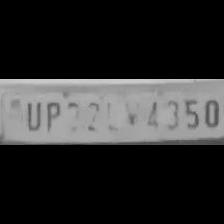0: (200, 96, 222, 128)
2: (82, 97, 102, 133)
3: (162, 96, 180, 130)
4: (141, 96, 161, 130)
5: (180, 94, 198, 130)
P: (42, 97, 62, 132)
U: (22, 96, 42, 132)
V: (120, 94, 140, 130)
